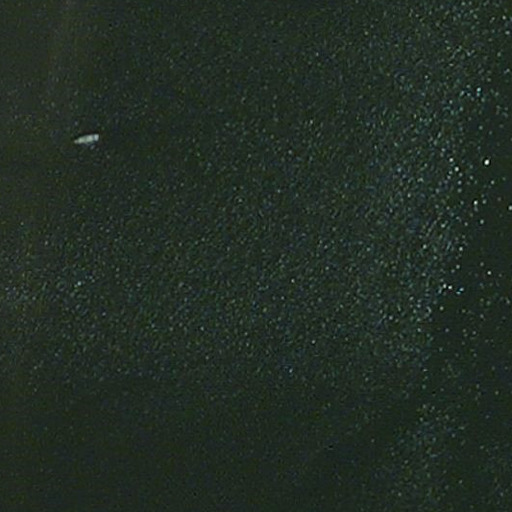ship: (68, 130, 103, 149)
